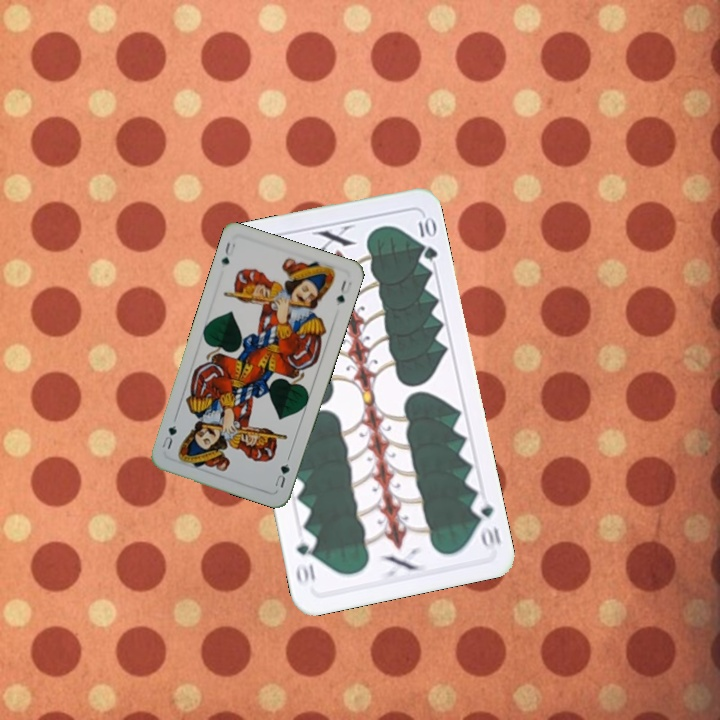G10: (468, 493, 503, 552)
GU: (270, 453, 292, 490), (217, 237, 238, 268)
